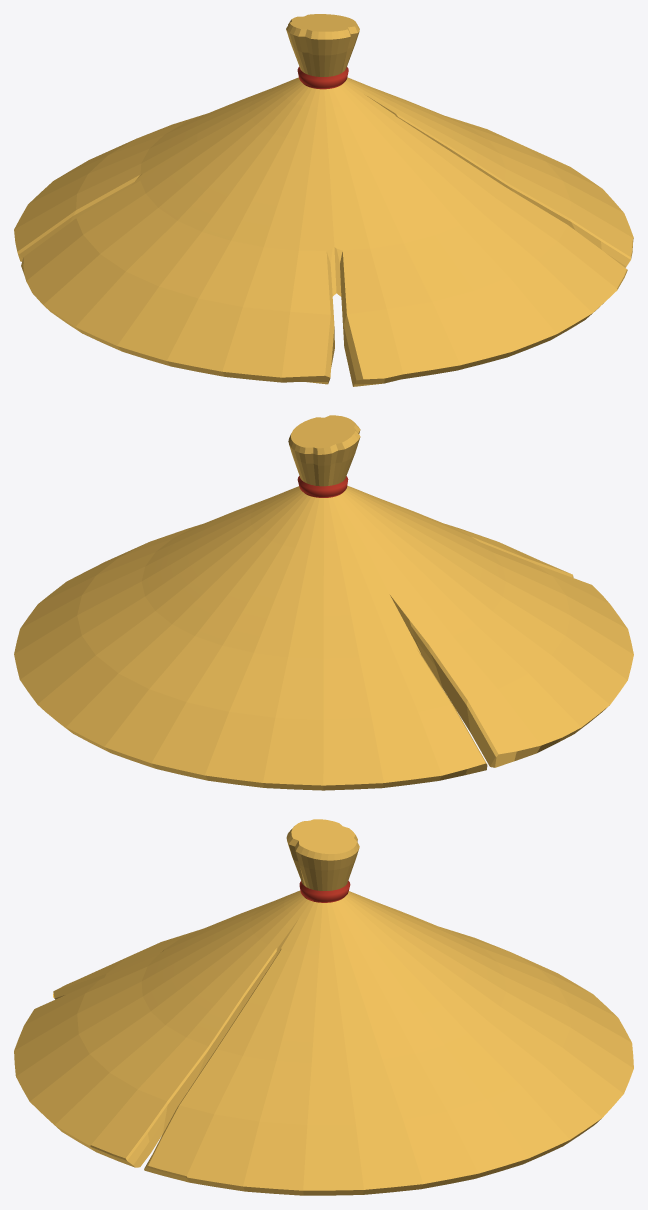
File: asian cone hat.fbx
3 renders of one model, top to bottom at view 1: azimuth 30°, elevation 25°; view 2: azimuth 150°, elevation 25°; view 3: azimuth 270°, elevation 25°, orthographic.
Visible parts, largest first — view 1: asian cone hat; view 2: asian cone hat; view 3: asian cone hat.
Boxes of the visible parts, left/top/right/bottom form: asian cone hat: left=14, top=14, right=633, bottom=386; asian cone hat: left=14, top=415, right=633, bottom=790; asian cone hat: left=14, top=819, right=633, bottom=1195.
Size of the model in its own units: 1.01 by 0.4401 by 1.01.
